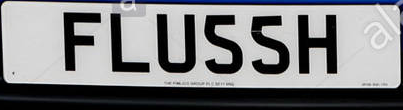F: (60, 10, 103, 73)
H: (296, 13, 339, 75)
L: (108, 12, 151, 74)
S: (250, 15, 292, 75), (204, 13, 245, 74)
U: (156, 12, 198, 73)
